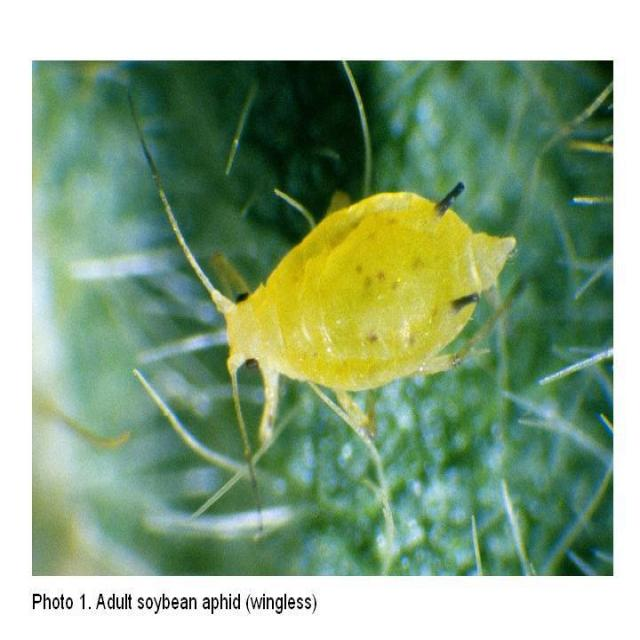Aphids: (120, 132, 539, 530)
